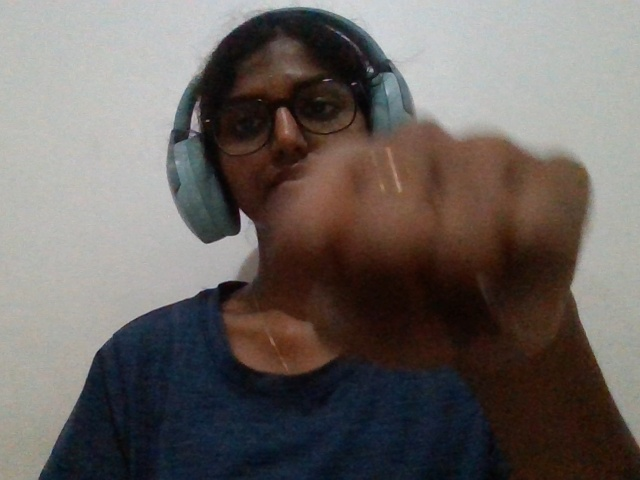Yes: (242, 94, 640, 436)
